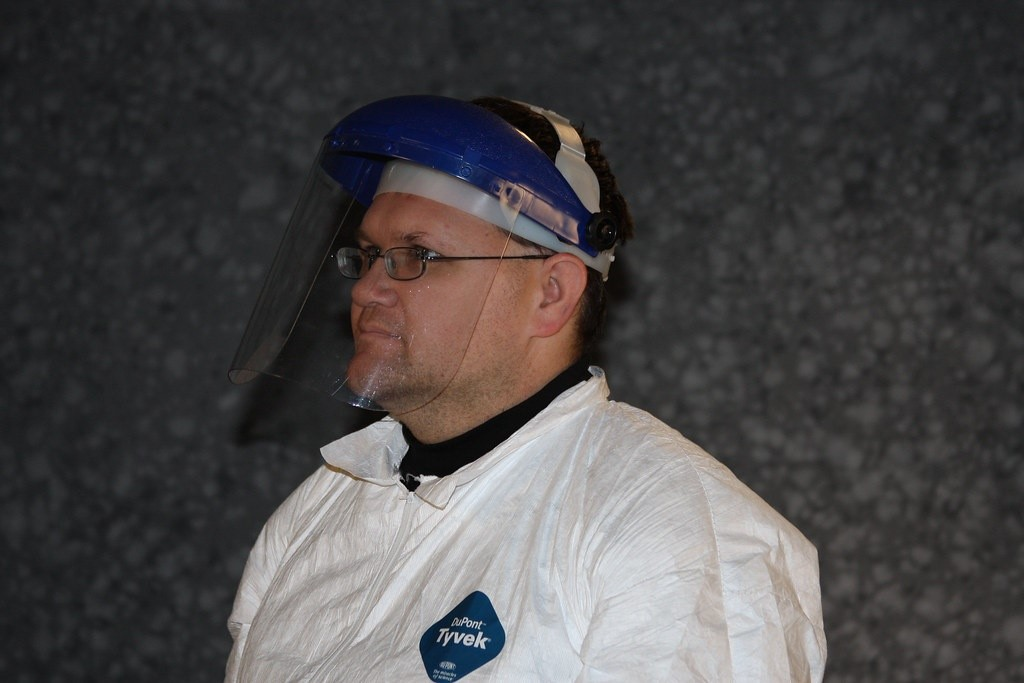face_no_mask: (322, 166, 533, 419)
